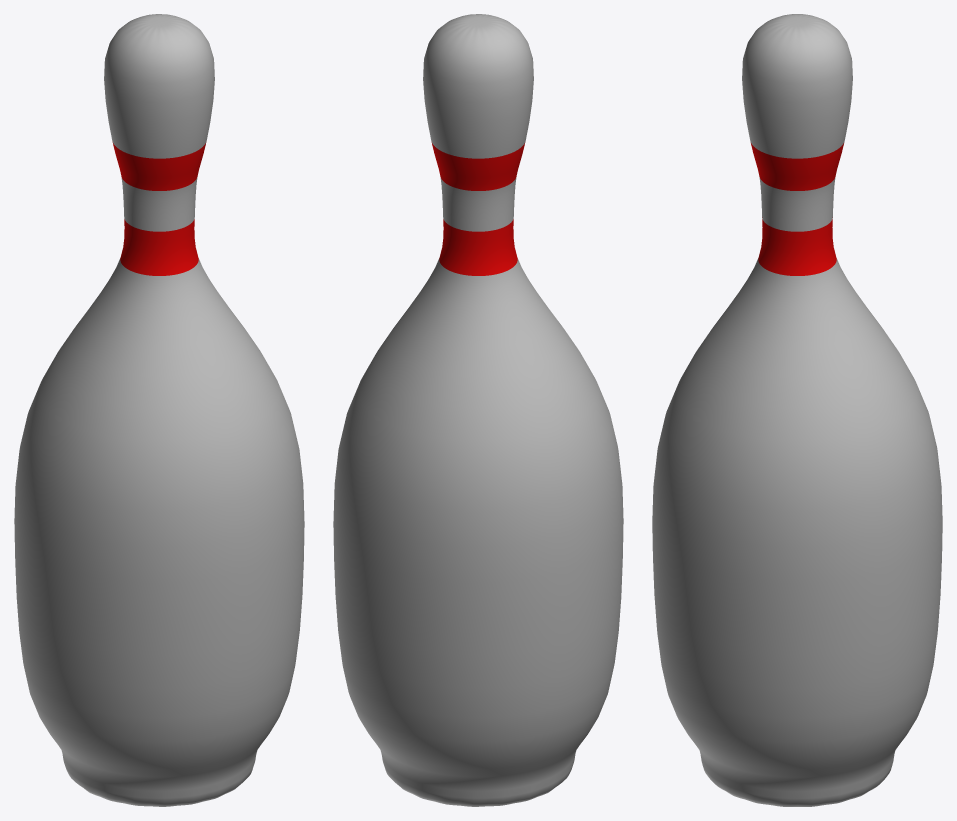
Rendered from DM_Bolo.fbx.
3 views of the same model, side by side, from view 1: azimuth 30°, elevation 25°; view 2: azimuth 150°, elevation 25°; view 3: azimuth 270°, elevation 25° (orthographic).
Parts seen in each view (by area): view 1: DM_Bolo; view 2: DM_Bolo; view 3: DM_Bolo.
Part boxes in pixels (<box>): DM_Bolo: <box>14,14,304,806</box>; DM_Bolo: <box>333,14,623,806</box>; DM_Bolo: <box>652,14,942,806</box>.
Size of the model in its own units: 22.42 by 64.32 by 22.42.
